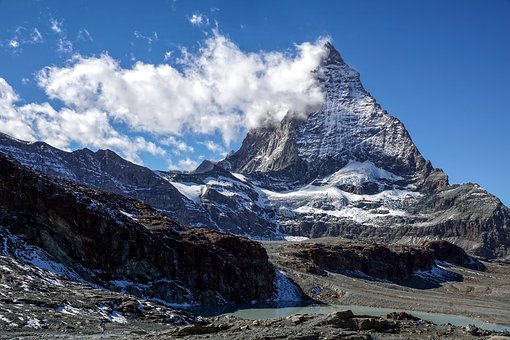mountain: (13, 137, 487, 316), (213, 54, 510, 296)
sky: (6, 6, 307, 133)
